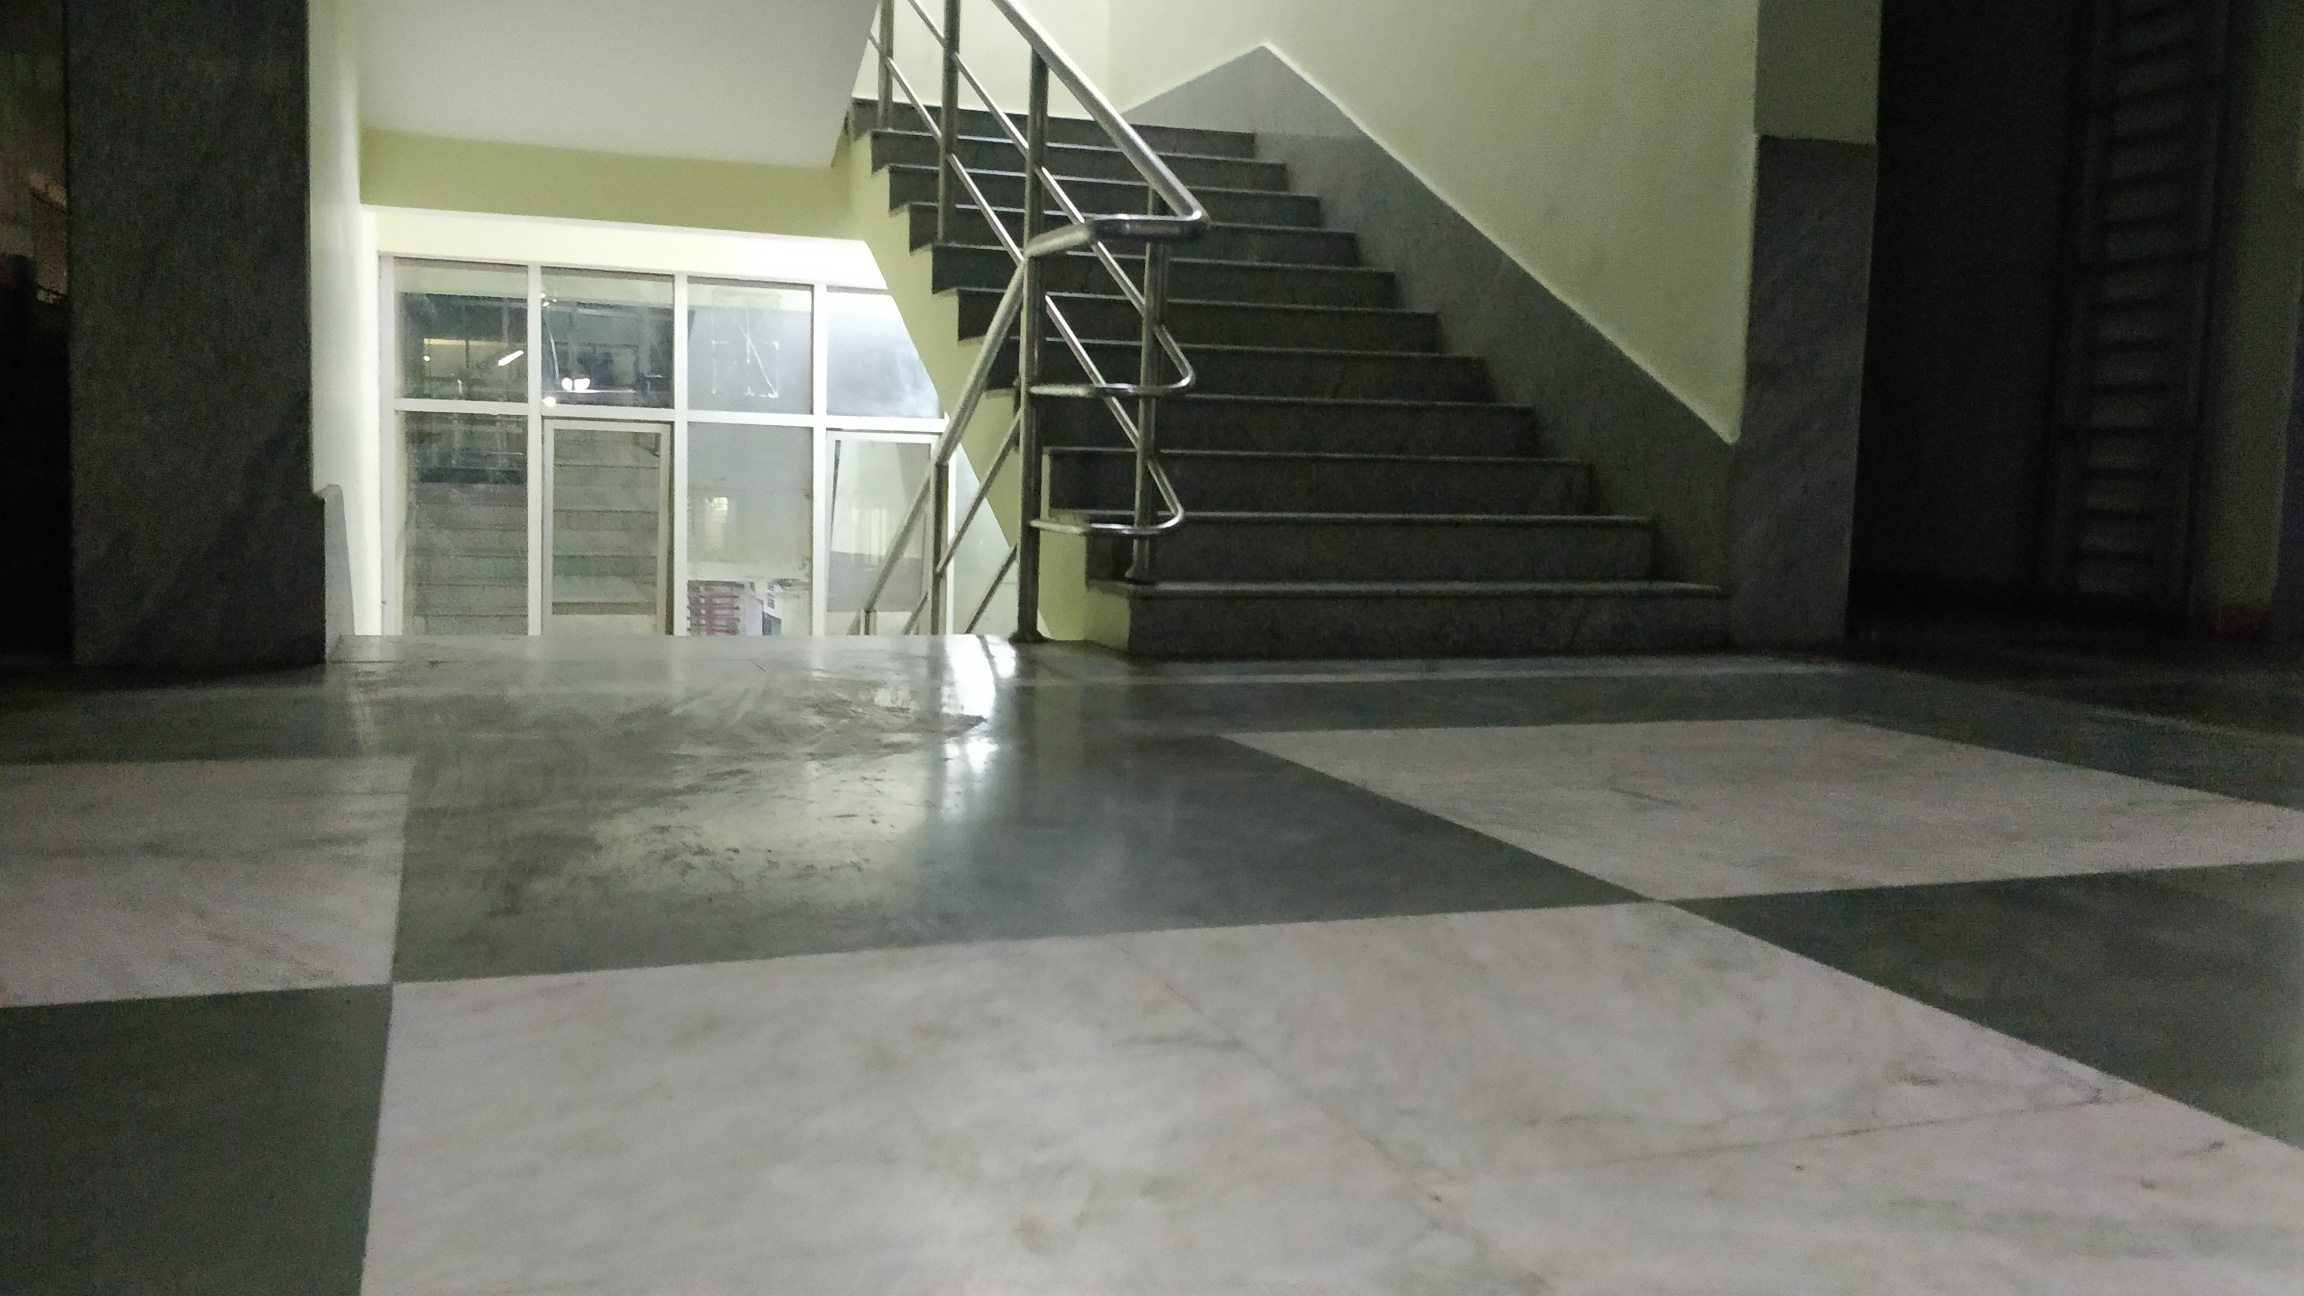stairs_up: (862, 89, 1736, 687)
